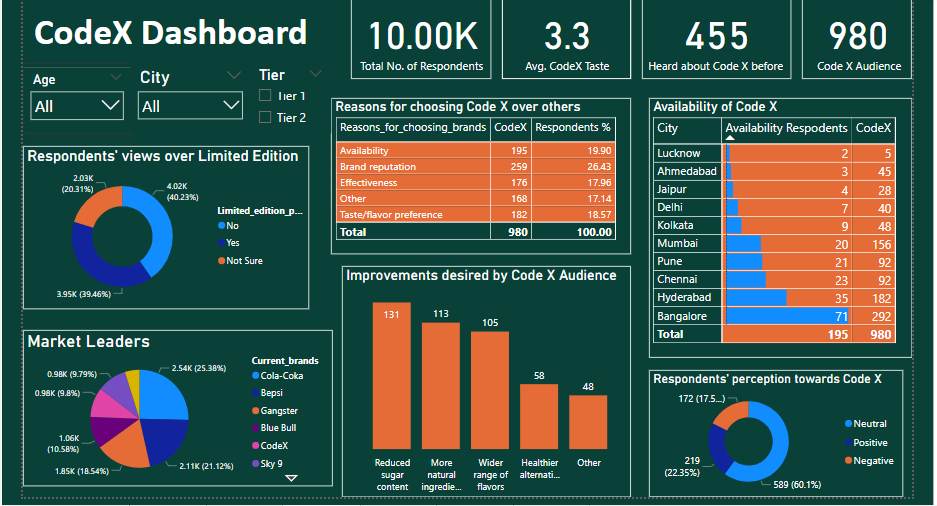

Layout of this report page (visuals, bound fields, positions):
{"tool":"powerbi","page":{"name":"Page 3","canvas":[1280,720],"ordinal":2},"visuals":[{"type":"donutChart","title":"Respondents'' perception towards Code X","fields":{"Category":["fact_survey_responses.Brand_perception"],"Y":["fact_survey_responses.CodeX"]},"box":[901.4,537.1,365.8,182.9],"z":0},{"type":"donutChart","title":" Respondents'' views over Limited Edition ","fields":{"Category":["fact_survey_responses.Limited_edition_packaging"],"Y":["CountNonNull(dim_repondents.Gender)"]},"box":[0,214.6,411.8,234.7],"z":1000},{"type":"tableEx","title":"Reasons for choosing Code X over others","fields":{"Values":["fact_survey_responses.Reasons_for_choosing_brands","fact_survey_responses.CodeX","fact_survey_responses.Respondents %"]},"box":[443.5,145.4,432,224.6],"z":2000},{"type":"pivotTable","title":"Availability of Code X","fields":{"Rows":["dim_cities.City"],"Values":["fact_survey_responses.Availability Respodents","fact_survey_responses.CodeX"]},"box":[901.4,145.4,378.7,374.4],"z":3000},{"type":"columnChart","title":"Improvements desired by Code X Audience","fields":{"Category":["fact_survey_responses.Improvements_desired"],"Y":["fact_survey_responses.CodeX Audience"]},"box":[459.4,387.4,416.2,332.6],"z":4000},{"type":"textbox","box":[0,11.5,443.5,83.5],"z":5000},{"type":"card","fields":{"Values":["CountNonNull(fact_survey_responses.Respondent_ID)"]},"box":[472.3,0,201.6,118.1],"z":6000},{"type":"card","fields":{"Values":["fact_survey_responses.CodeX Average"]},"box":[689.8,0,185.8,118.1],"z":7000},{"type":"card","fields":{"Values":["fact_survey_responses.CodeX Audience"]},"box":[891.4,0,214.6,118.1],"z":8000},{"type":"card","fields":{"Values":["fact_survey_responses.CodeX"]},"box":[1121.6,0,158.4,118.1],"z":9000},{"type":"slicer","fields":{"Values":["dim_repondents.Age"]},"box":[0,95,155.5,100.8],"z":10000},{"type":"slicer","fields":{"Values":["dim_cities.City"]},"box":[155.5,95,171.4,100.8],"z":11000},{"type":"slicer","fields":{"Values":["dim_cities.Tier"]},"box":[326.9,95,116.6,100.8],"z":12000},{"type":"pieChart","title":"Market Leaders","fields":{"Category":["fact_survey_responses.Current_brands"],"Y":["CountNonNull(fact_survey_responses.Respondent_ID)"]},"box":[0,479.5,446.4,224.6],"z":13000}]}

Visuals, with their boxes on the page's 1280x720 design canvas (x1, y1, x2, y2). These are canvas units, not pixel positions in the 937x506 screenshot, which may show the page scaled, cropped or inside an application window:
"Respondents'' perception towards Code X" donutChart: crop(901, 537, 1267, 720)
" Respondents'' views over Limited Edition " donutChart: crop(0, 215, 412, 449)
"Reasons for choosing Code X over others" tableEx: crop(444, 145, 876, 370)
"Availability of Code X" pivotTable: crop(901, 145, 1280, 520)
"Improvements desired by Code X Audience" columnChart: crop(459, 387, 876, 720)
textbox: crop(0, 12, 444, 95)
card - CountNonNull(fact_survey_responses.Respondent_ID): crop(472, 0, 674, 118)
card - fact_survey_responses.CodeX Average: crop(690, 0, 876, 118)
card - fact_survey_responses.CodeX Audience: crop(891, 0, 1106, 118)
card - fact_survey_responses.CodeX: crop(1122, 0, 1280, 118)
slicer - dim_repondents.Age: crop(0, 95, 156, 196)
slicer - dim_cities.City: crop(156, 95, 327, 196)
slicer - dim_cities.Tier: crop(327, 95, 444, 196)
"Market Leaders" pieChart: crop(0, 480, 446, 704)
